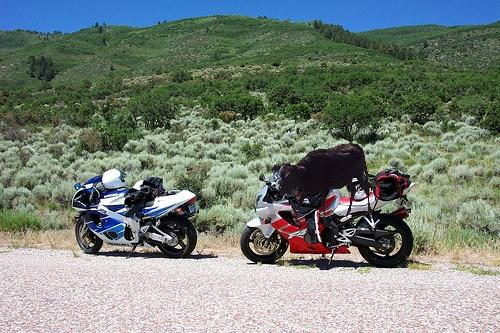tampered: (275, 144, 372, 223)
